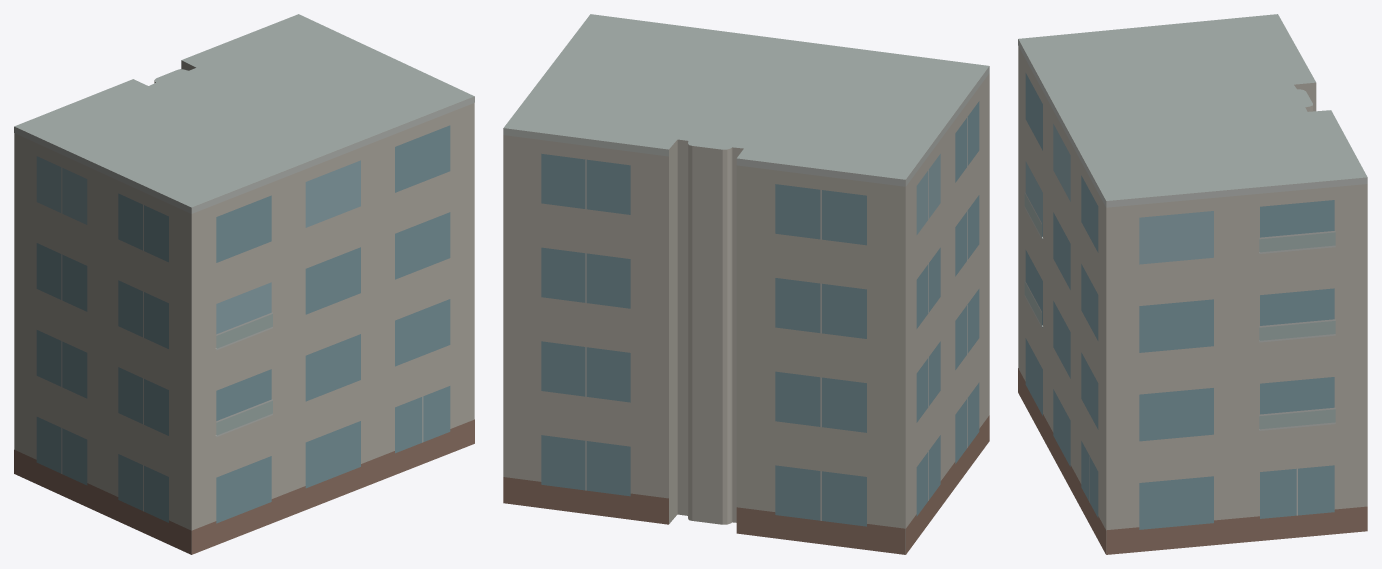
File: survey-upis-32818964.glb
3 views of the same model, side by side, from view 1: azimuth 30°, elevation 25°; view 2: azimuth 150°, elevation 25°; view 3: azimuth 270°, elevation 25° (orthographic). The views are drawn at different scales.
Visible parts, largest first — view 1: survey-upis-32818964.tmp; view 2: survey-upis-32818964.tmp; view 3: survey-upis-32818964.tmp.
Part boxes in pixels (left/top/right/bottom): survey-upis-32818964.tmp: left=14, top=14, right=474, bottom=554; survey-upis-32818964.tmp: left=503, top=14, right=989, bottom=554; survey-upis-32818964.tmp: left=1018, top=14, right=1367, bottom=554.
Size of the model in its own units: 14.81 by 13.05 by 11.69.
